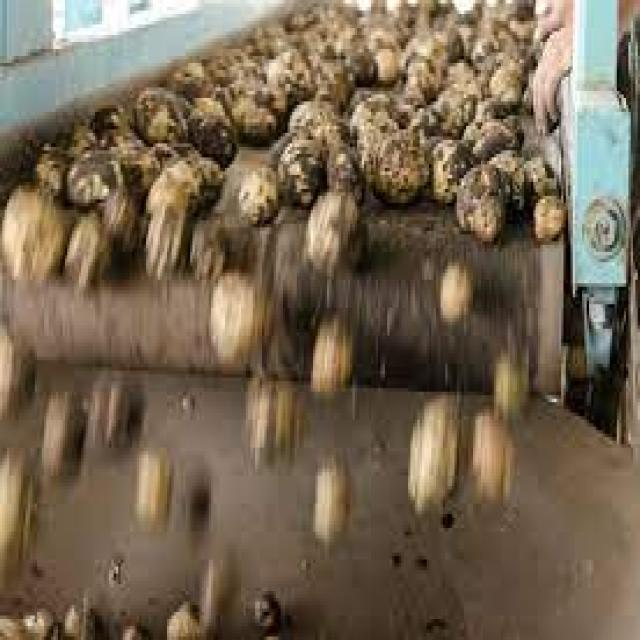Wet: (48, 0, 530, 183)
